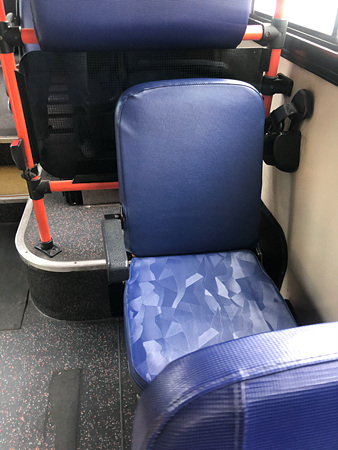seat: (118, 79, 295, 341)
